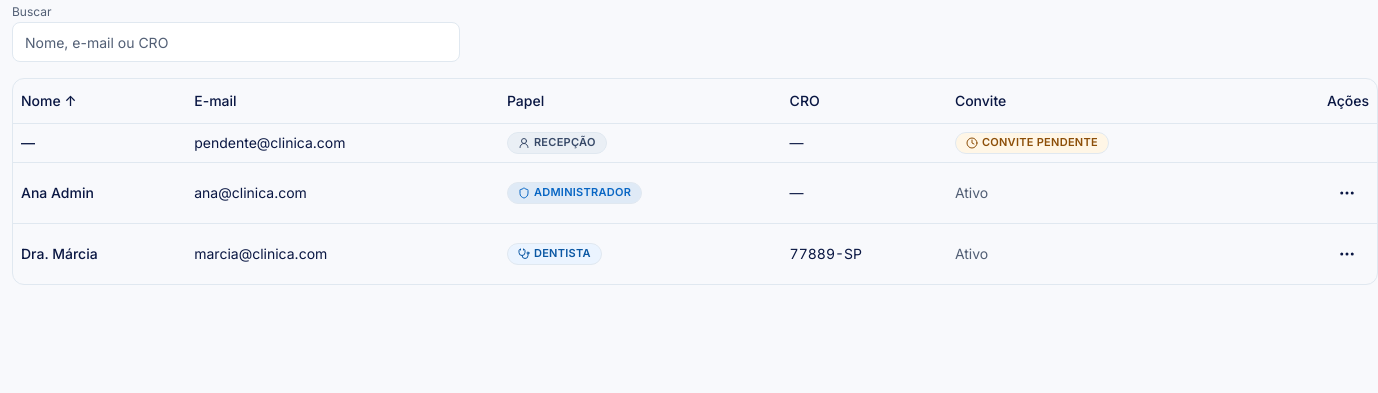
Test: ProfissionaisTable › mostra ações de gestão só para admin e só em membros ativos
Click the button named "Ações de Ana Admin": point(1347, 193) [1325,171,1369,215]
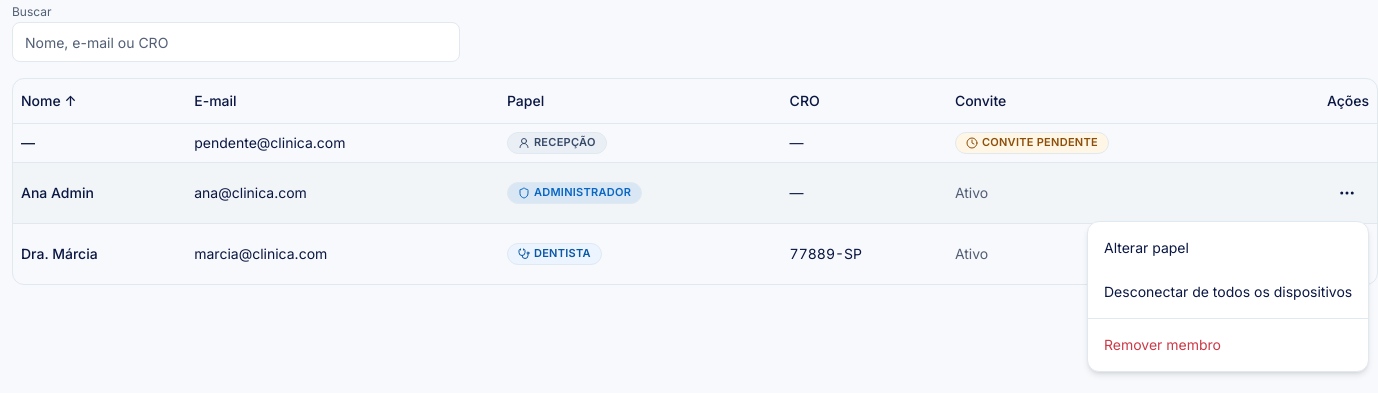
Expected: the menu item "Alterar papel" is shown, [1104,239,1189,256]
Expected: the menu item "Desconectar de todos os dispositivos" is shown, [1104,283,1352,300]
Expected: the menu item "Remover membro" is shown, [1104,336,1221,353]
